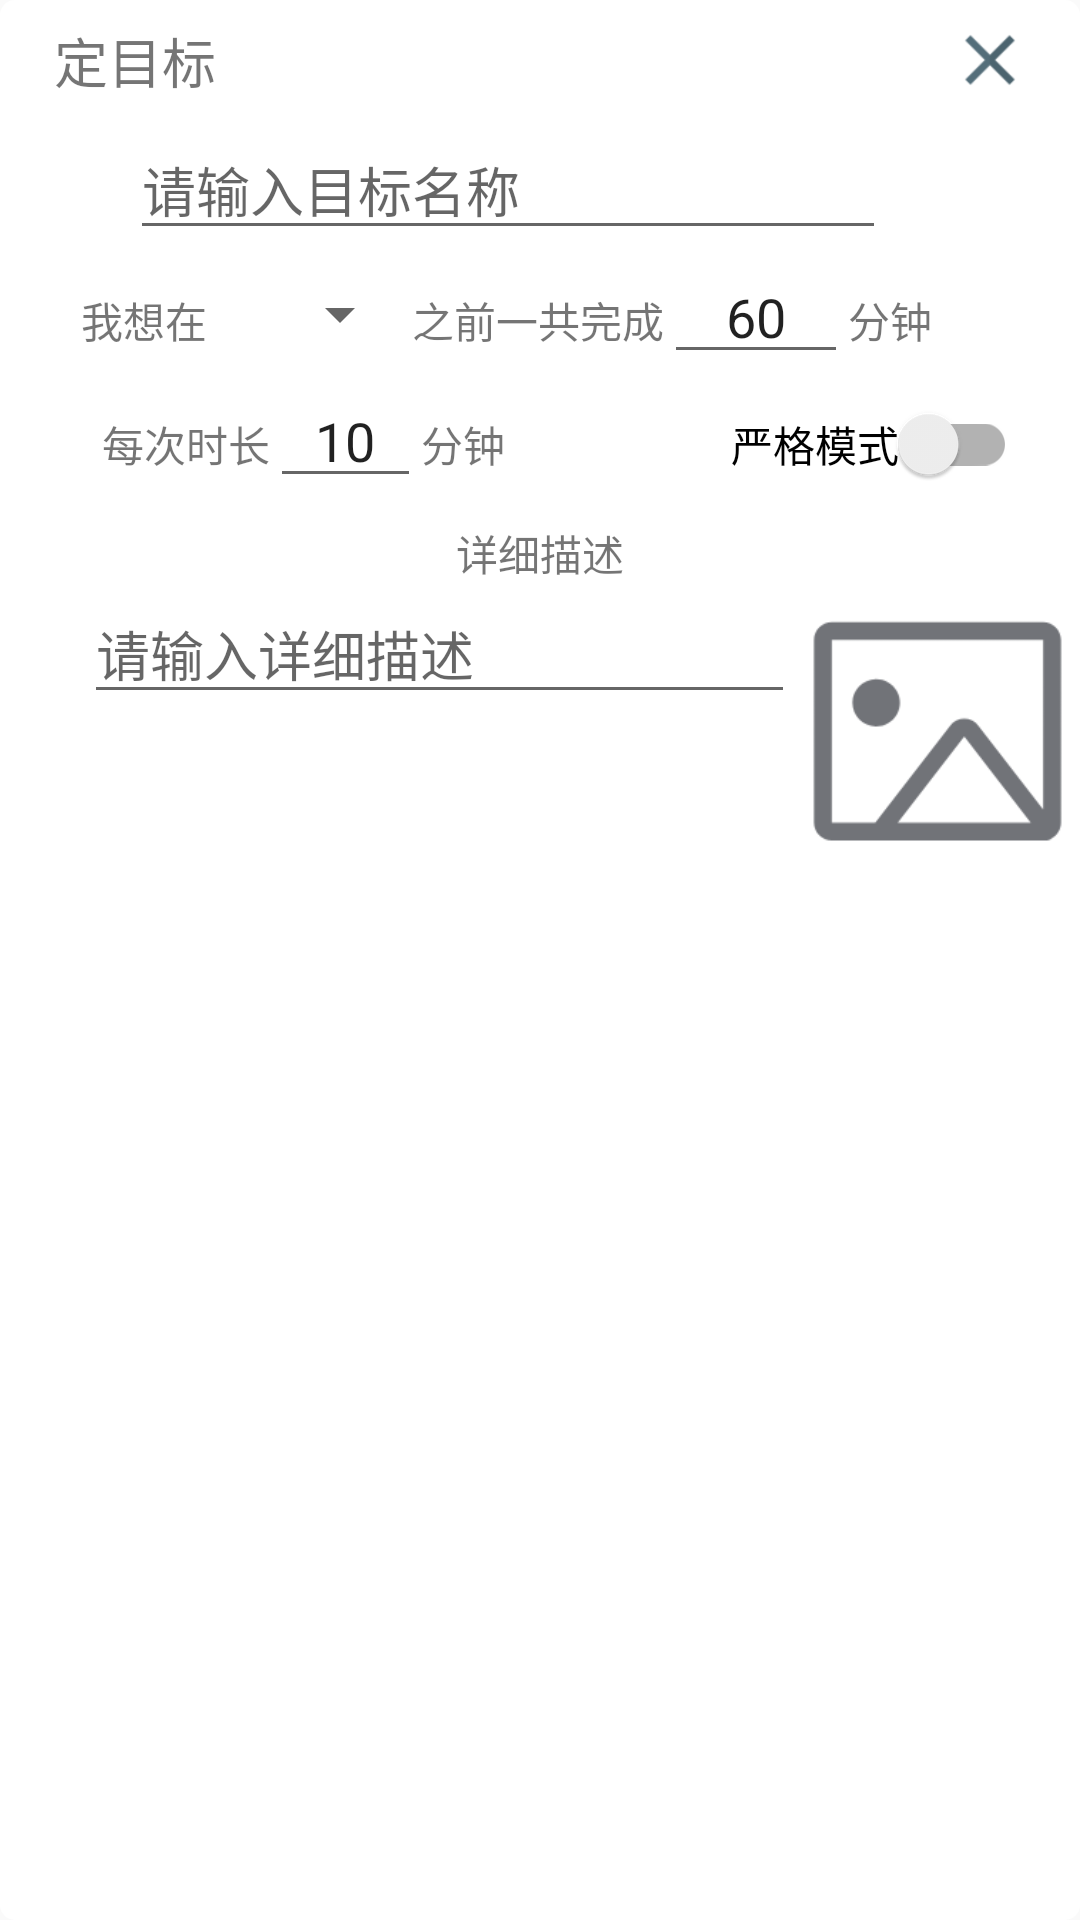

Named icons in this screenshot (1080×1920) and their centers, (x,y):
close: (990,60)
